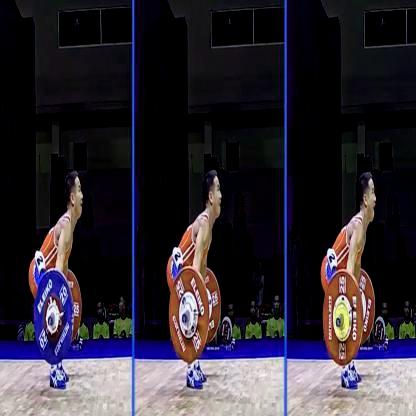Barbell: (48, 313, 56, 333), (335, 314, 343, 334), (183, 312, 190, 329)
